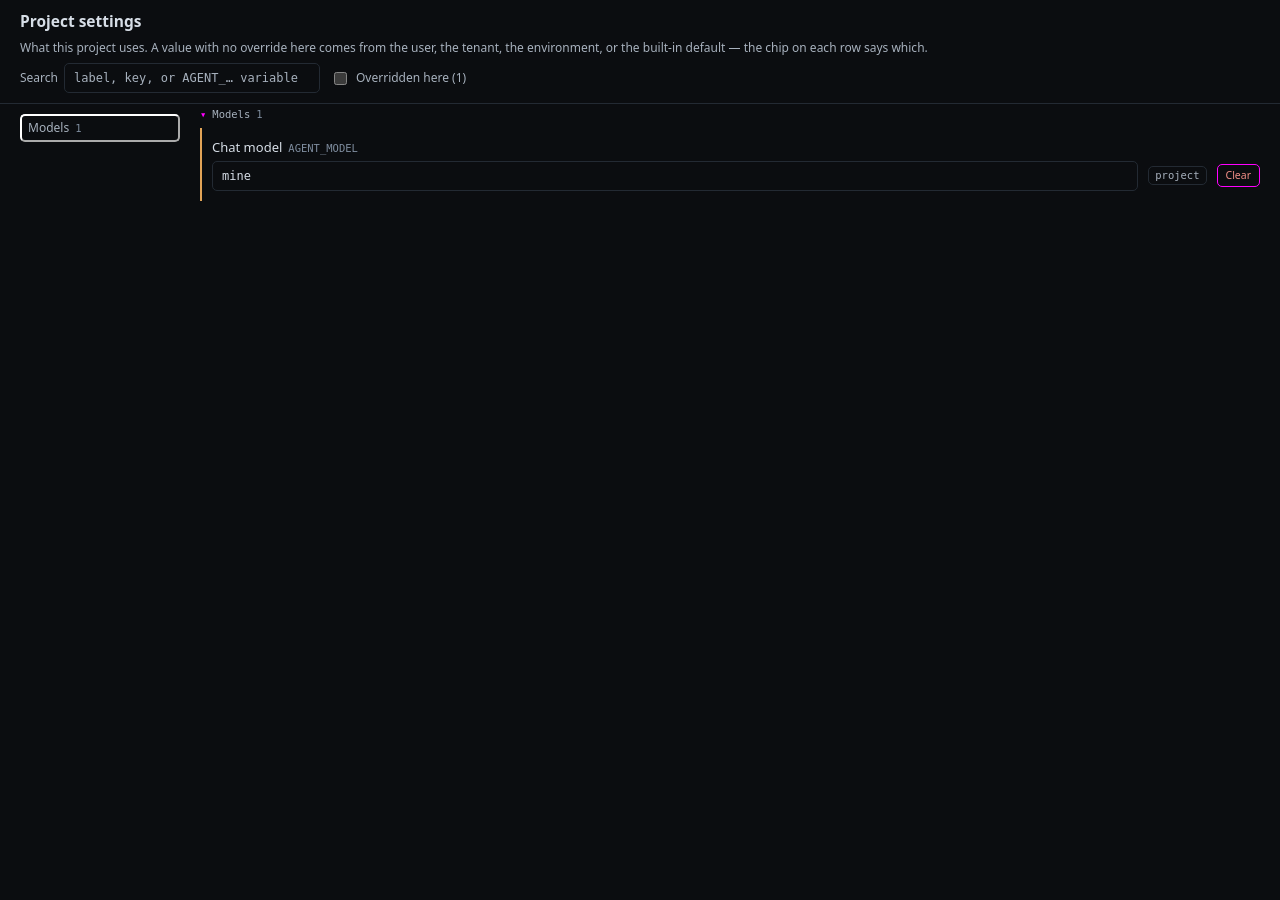
Test: the chain popover › shows all five on a project page, where all five can answer
Expected: the text "Chat model" is shown, x1=212 y1=138 x2=282 y2=158
Click the button with aria-label "resolved from project". click: {"x": 1177, "y": 176}
box: x1=1148 y1=166 x2=1206 y2=185
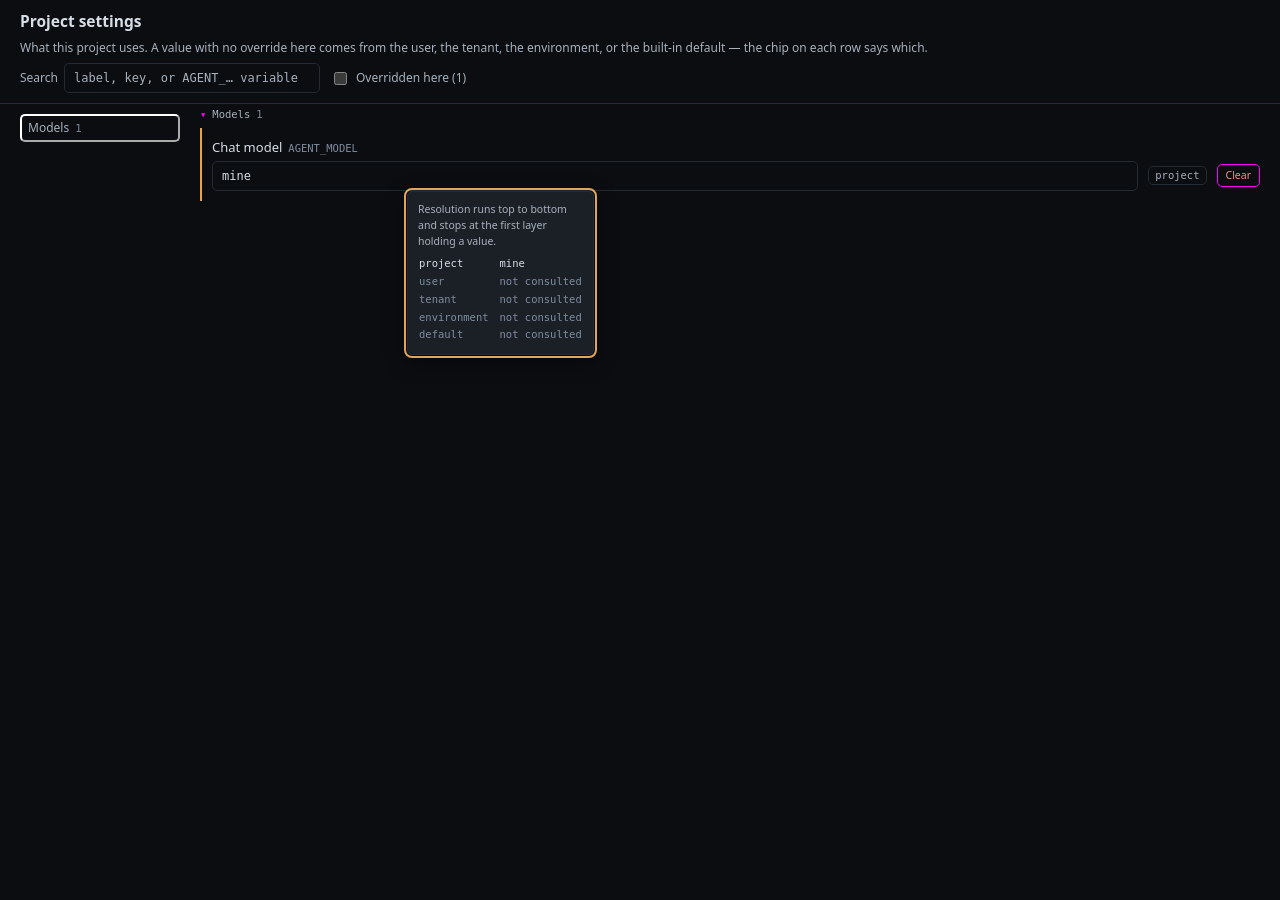
Result: the row with test id "chain-project" is shown at x1=418 y1=255 x2=583 y2=273
Result: the row with test id "chain-user" is shown at x1=418 y1=273 x2=583 y2=291
Result: the row with test id "chain-tenant" is shown at x1=418 y1=291 x2=583 y2=309
